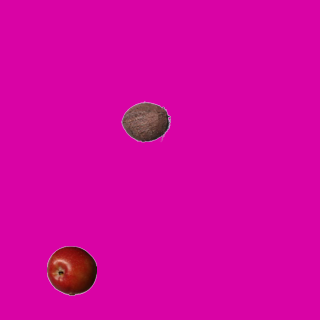Apple Braeburn: (46, 245, 96, 295)
Cocos: (120, 96, 170, 146)
